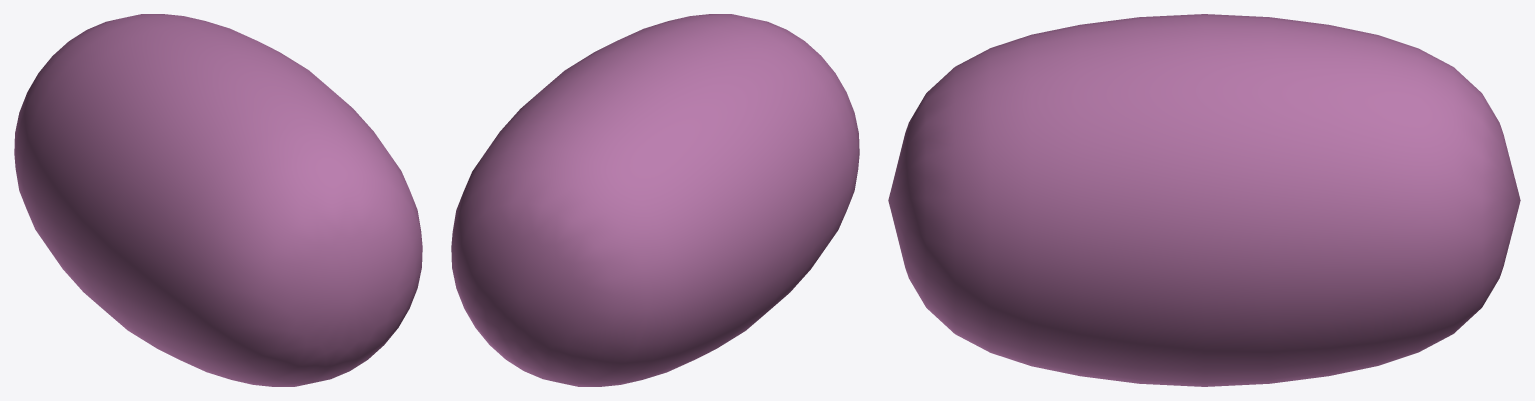
3 views of the same model, side by side, from view 1: azimuth 30°, elevation 25°; view 2: azimuth 150°, elevation 25°; view 3: azimuth 270°, elevation 25° (orthographic). The views are drawn at different scales.
Parts seen in each view (by area): view 1: 右侧蜗背侧核; view 2: 右侧蜗背侧核; view 3: 右侧蜗背侧核.
Boxes of the visible parts, <box> form: 右侧蜗背侧核: <box>14,14,422,386</box>; 右侧蜗背侧核: <box>451,14,859,386</box>; 右侧蜗背侧核: <box>888,14,1520,386</box>.
Bounding box in the file's own units: 0.0028 × 0.0028 × 0.00476.
